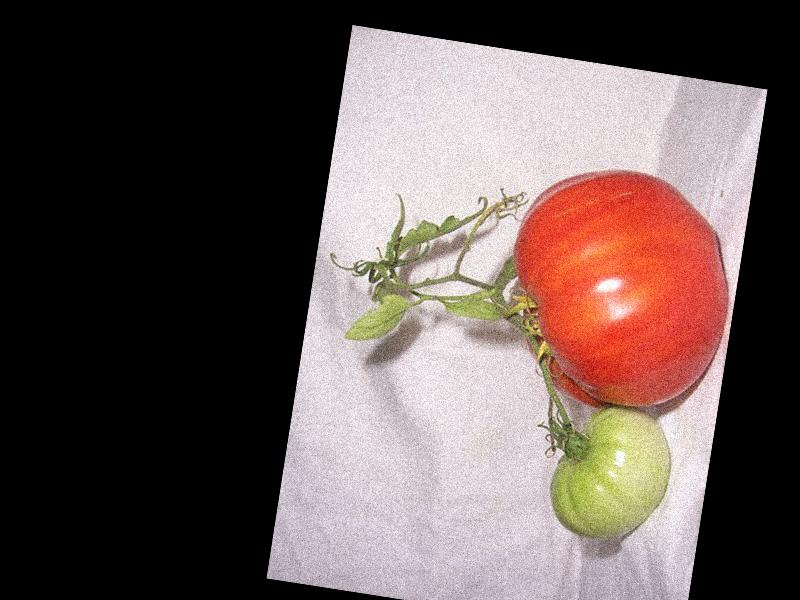Tomato: (491, 154, 744, 425)
